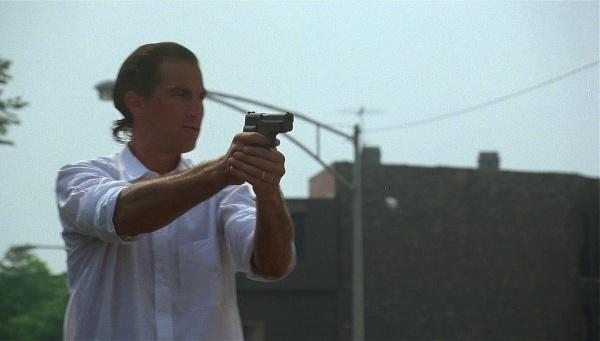Gun: (243, 112, 295, 144)
